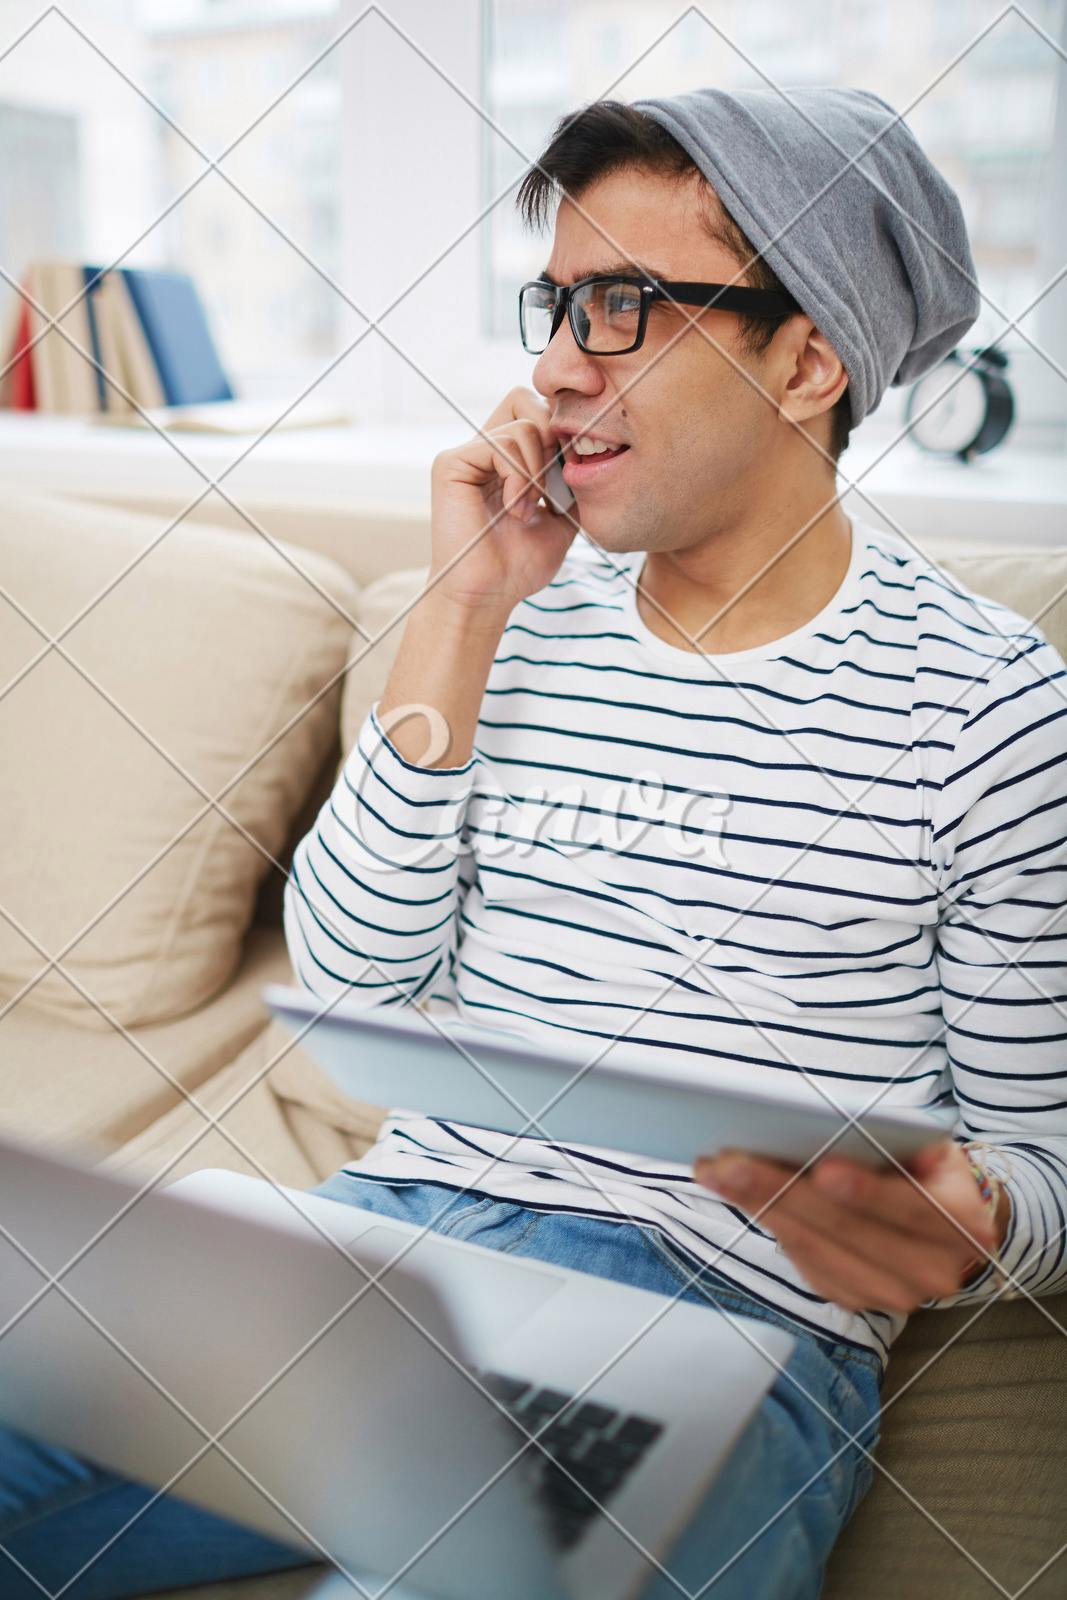calling: (422, 358, 594, 605)
